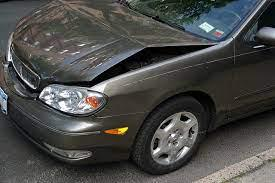bonnet-dent: (21, 2, 193, 83)
